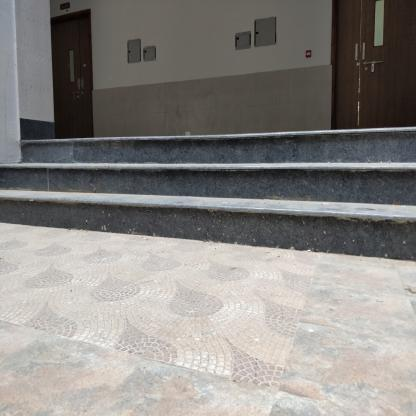stairs: (58, 125, 412, 246)
